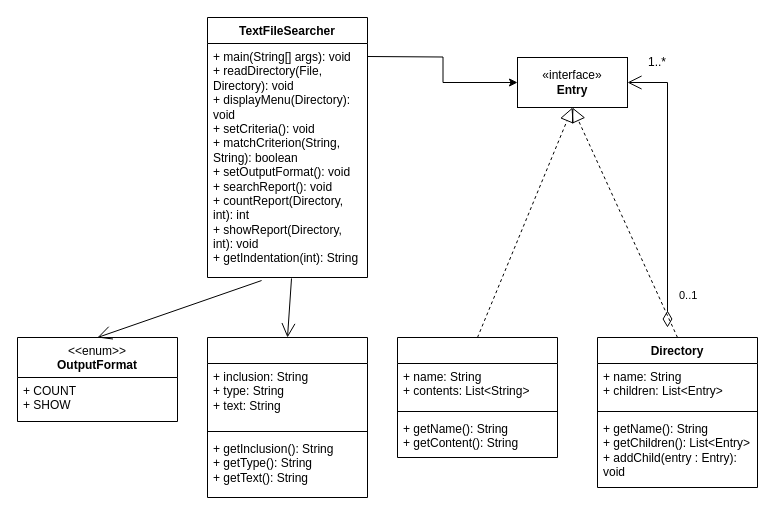
Some shapes in this 775 by 518 pixel diagram are drawn without their labels. The box of each missing label's shape, as (x1, y1, x2, y2) in pixels:
Criterion: (206, 336, 368, 498)
FileEntry: (396, 336, 558, 458)
